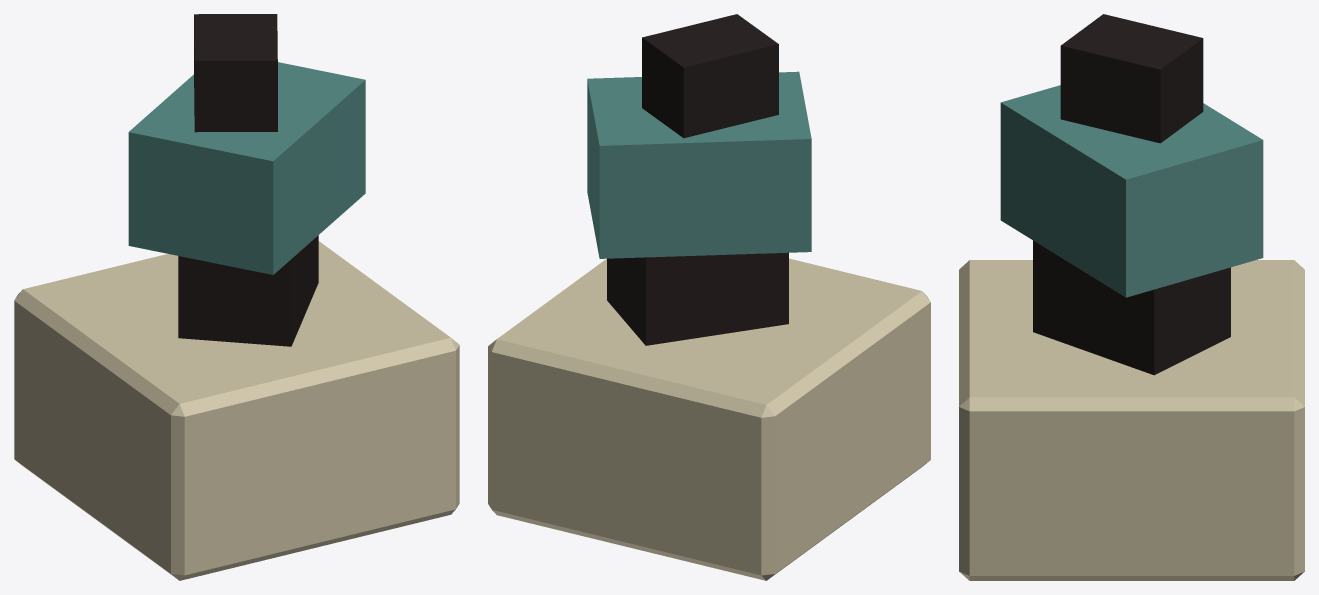
Rendered from sculpture-47.glb.
3 renders of one model, left to right at view 1: azimuth 30°, elevation 25°; view 2: azimuth 150°, elevation 25°; view 3: azimuth 270°, elevation 25°, orthographic. The views are drawn at different scales.
Visible parts, largest first — view 1: sculpture_47; view 2: sculpture_47; view 3: sculpture_47.
Boxes of the visible parts, bbox=[...] form: sculpture_47: bbox=[14, 14, 459, 580]; sculpture_47: bbox=[488, 14, 930, 580]; sculpture_47: bbox=[959, 14, 1304, 580].
Bounding box in the file's own units: 0.1968 × 0.295 × 0.1968.
